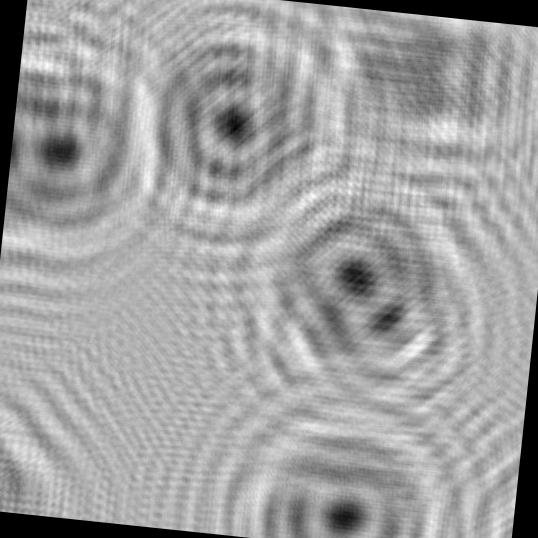P: (118, 0, 367, 231), (194, 355, 499, 538), (0, 361, 102, 520)
R: (218, 144, 530, 444), (0, 15, 174, 272)
T: (297, 3, 538, 201)
